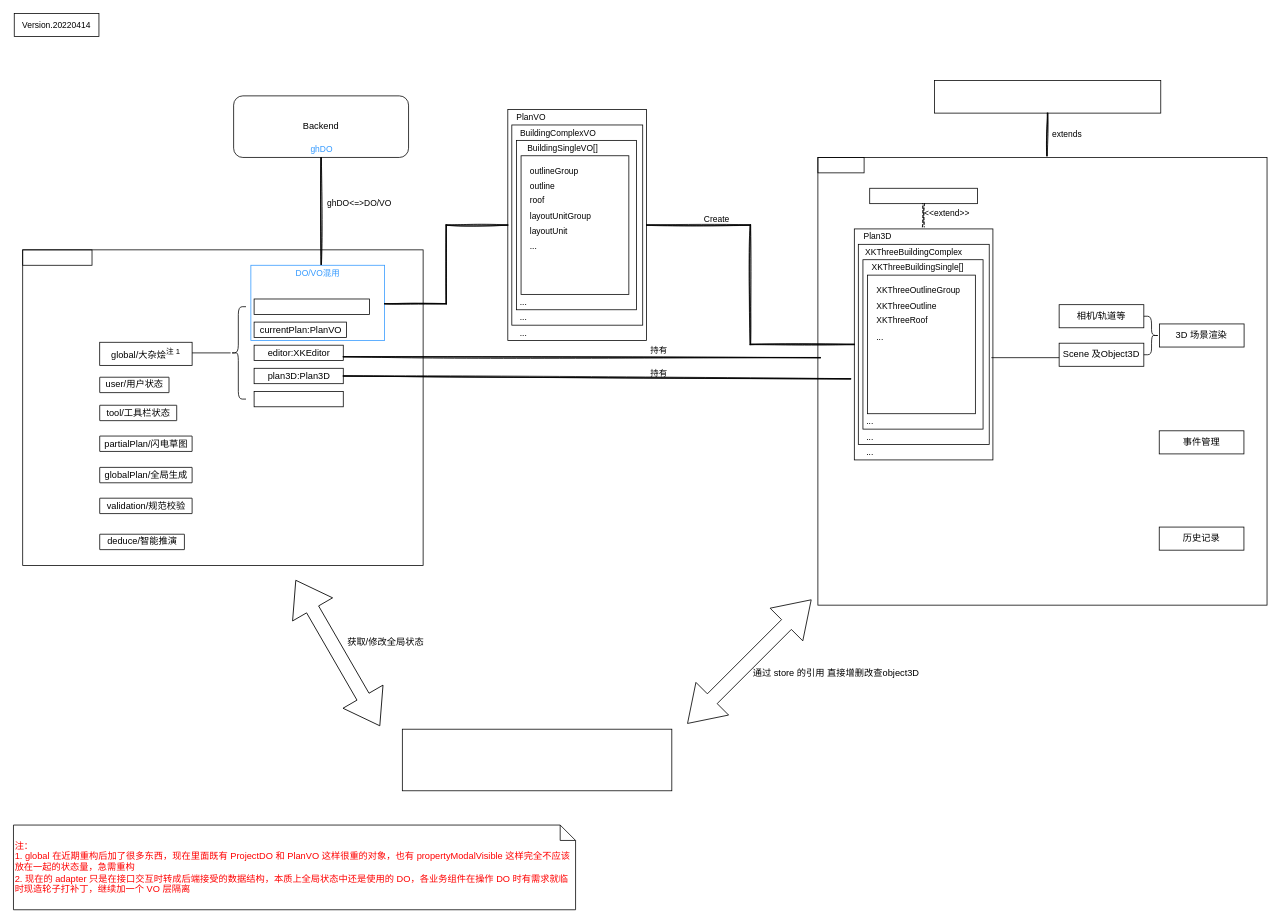
This 1281x923 diagram has some shape labels left out. Here are the shapes that lost their labels. From the top down, the centre of each, then its label:
the point at 1047,96: EditorEventDispatcher
the point at 840,165: XKEditor
the point at 923,195: Threejs.object3D
the point at 57,257: Store(Redux)
the point at 311,306: currentProject:ProjectDO
the point at 298,399: ... 其它零散的状态
the point at 537,759: 各功能组件
